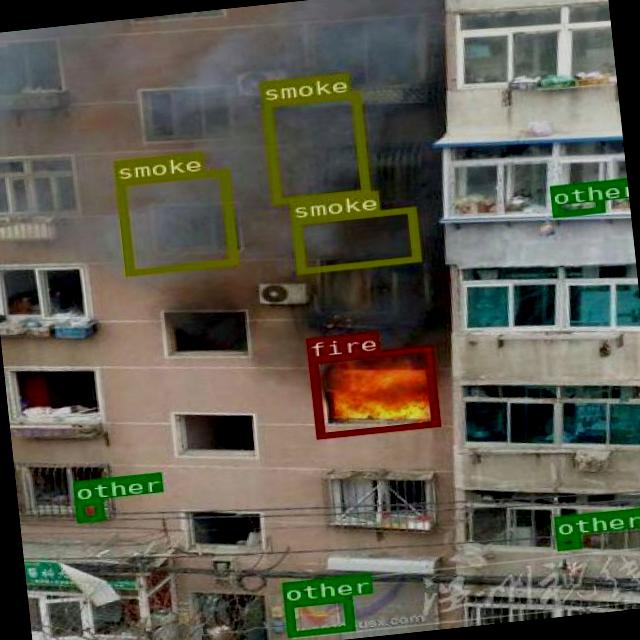fire: (306, 344, 438, 438)
smoke: (114, 168, 235, 274), (261, 90, 367, 202), (290, 206, 420, 273)
